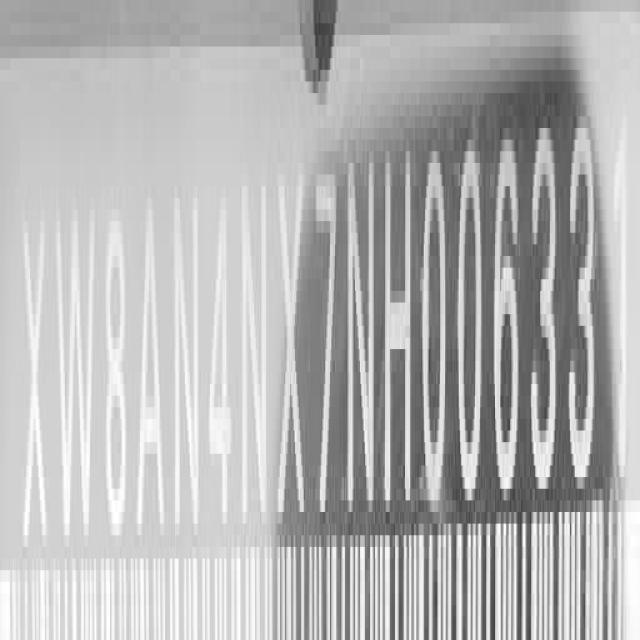0: (457, 133, 487, 514), (421, 135, 450, 518)
1: (608, 125, 630, 522)
3: (532, 118, 564, 507), (569, 112, 599, 506)
4: (209, 185, 234, 543)
6: (494, 123, 525, 511)
7: (314, 163, 341, 531)
8: (105, 205, 132, 549)
A: (133, 197, 164, 550)
H: (384, 144, 413, 522)
N: (346, 138, 379, 543), (241, 174, 272, 538), (174, 186, 204, 545)
W: (58, 203, 98, 553)
X: (278, 162, 308, 538), (21, 210, 48, 560)
